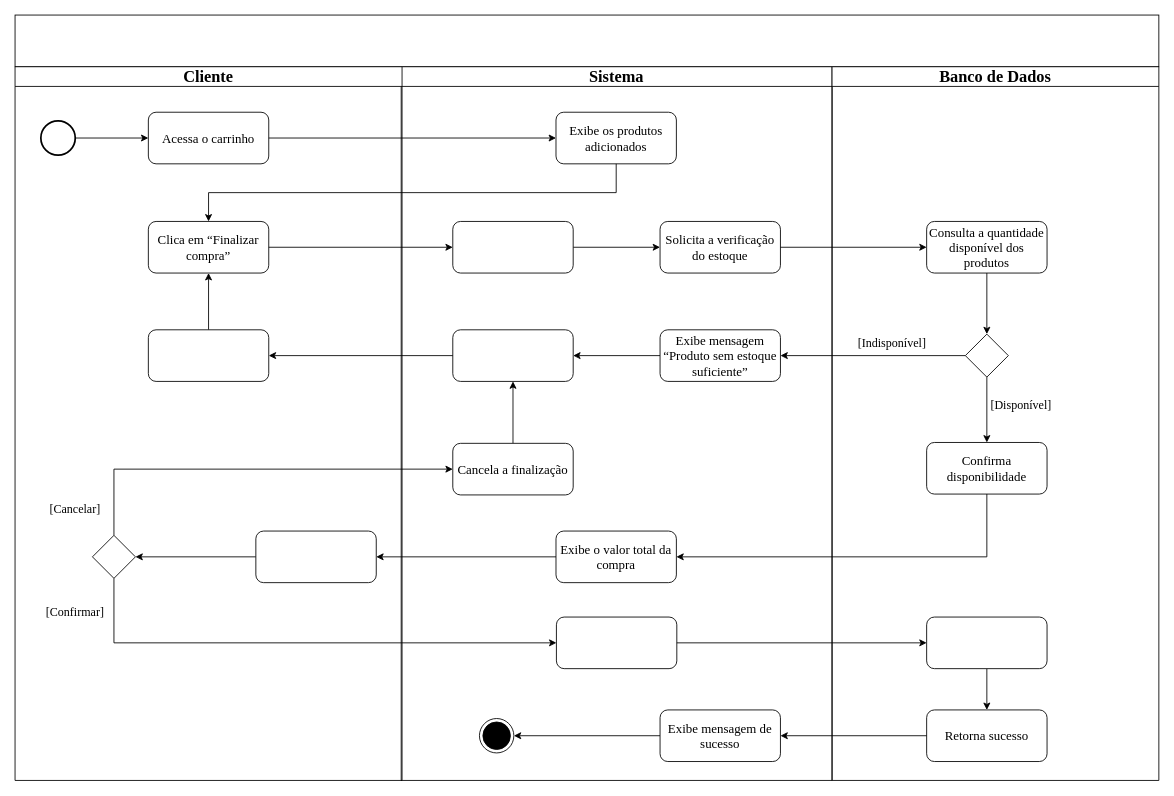
Some shapes in this 1174 by 796 pixel diagram are drawn without their labels. The shapes that lost their labels are listed below. From the top down, each one's centre as x and y in pixels, then its label:
At pixel 586 40: "Diagrama de Atividade: Finalizar Intenção de Compra".
At pixel 512 247: "Calcula o valor total dos itens".
At pixel 208 355: "Altera os itens ou quantidades".
At pixel 512 355: "Retorna ao carrinho".
At pixel 315 556: "Confirma a intenção de compra".
At pixel 616 642: "Envia a intenção de compra".
At pixel 986 642: "Registra a intenção de compra".
